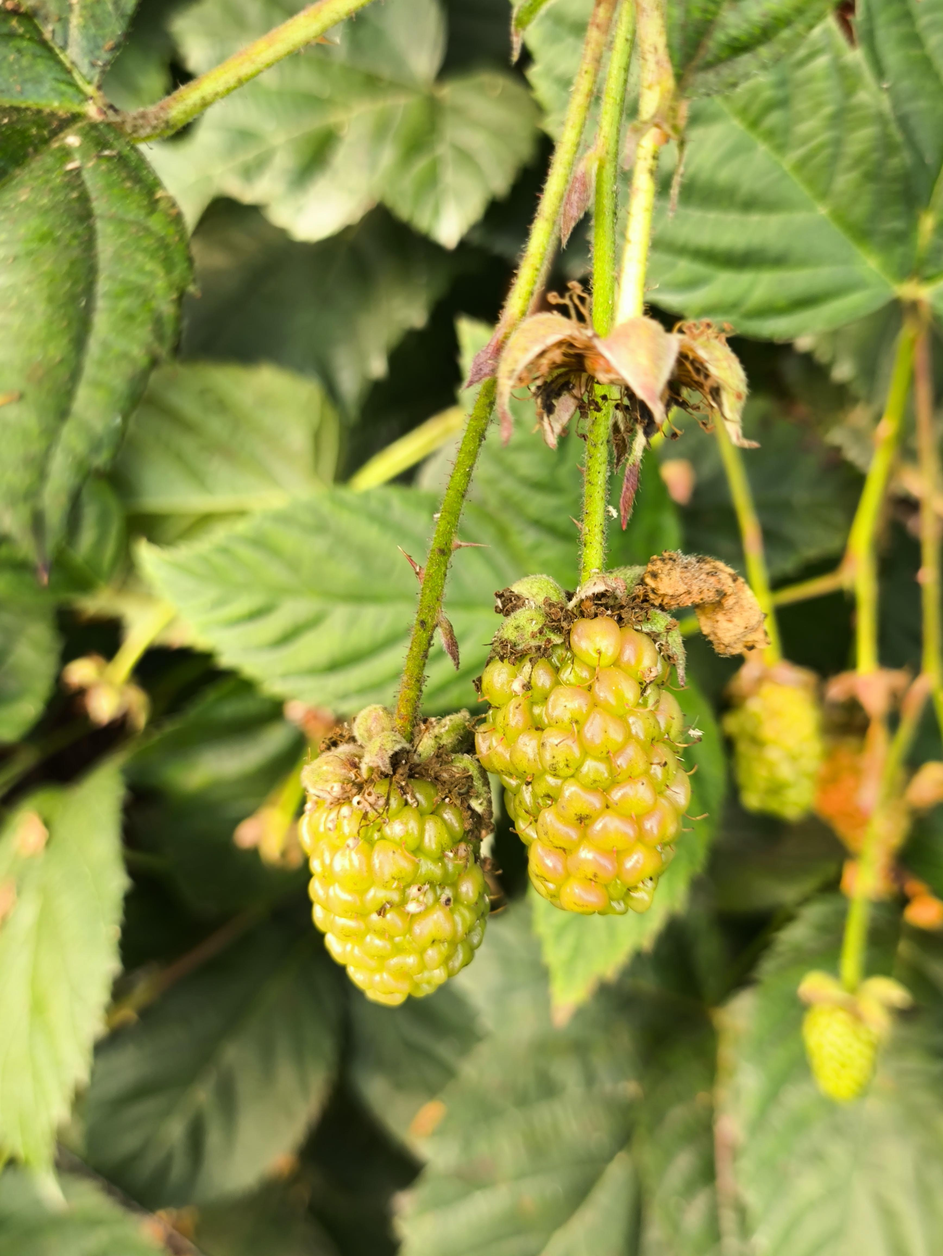verde: (482, 604, 686, 921), (300, 748, 492, 1002), (723, 663, 824, 821)
